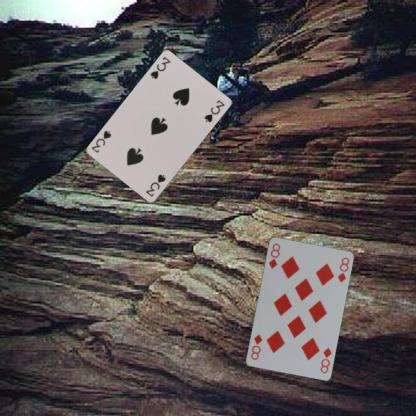3s: (147, 54, 172, 81), (143, 172, 167, 198)
8d: (266, 240, 281, 270), (318, 344, 333, 374)
